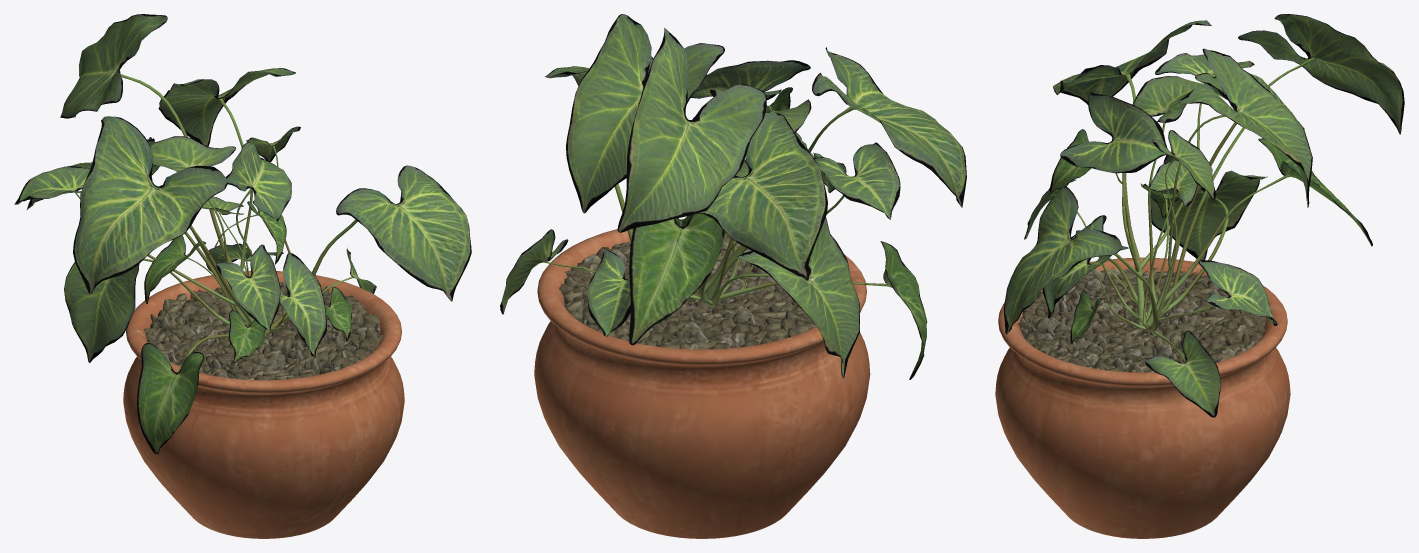
Rendered from potted_plant_02.glb.
3 views of the same model, side by side, from view 1: azimuth 30°, elevation 25°; view 2: azimuth 150°, elevation 25°; view 3: azimuth 270°, elevation 25° (orthographic). The views are drawn at different scales.
Visible parts, largest first — view 1: potted_plant_02_leaves, potted_plant_02_pot; view 2: potted_plant_02_leaves, potted_plant_02_pot; view 3: potted_plant_02_pot, potted_plant_02_leaves.
Boxes of the visible parts, x1,y1,x2,y2 form: potted_plant_02_leaves: (14, 14, 471, 454); potted_plant_02_pot: (123, 271, 404, 538); potted_plant_02_leaves: (500, 14, 966, 379); potted_plant_02_pot: (534, 219, 870, 538); potted_plant_02_pot: (995, 257, 1290, 538); potted_plant_02_leaves: (1004, 14, 1404, 417).
Bounding box in the file's own units: 0.7009 × 0.8412 × 0.6574.
Materials: 2 (2 with a texture image).
